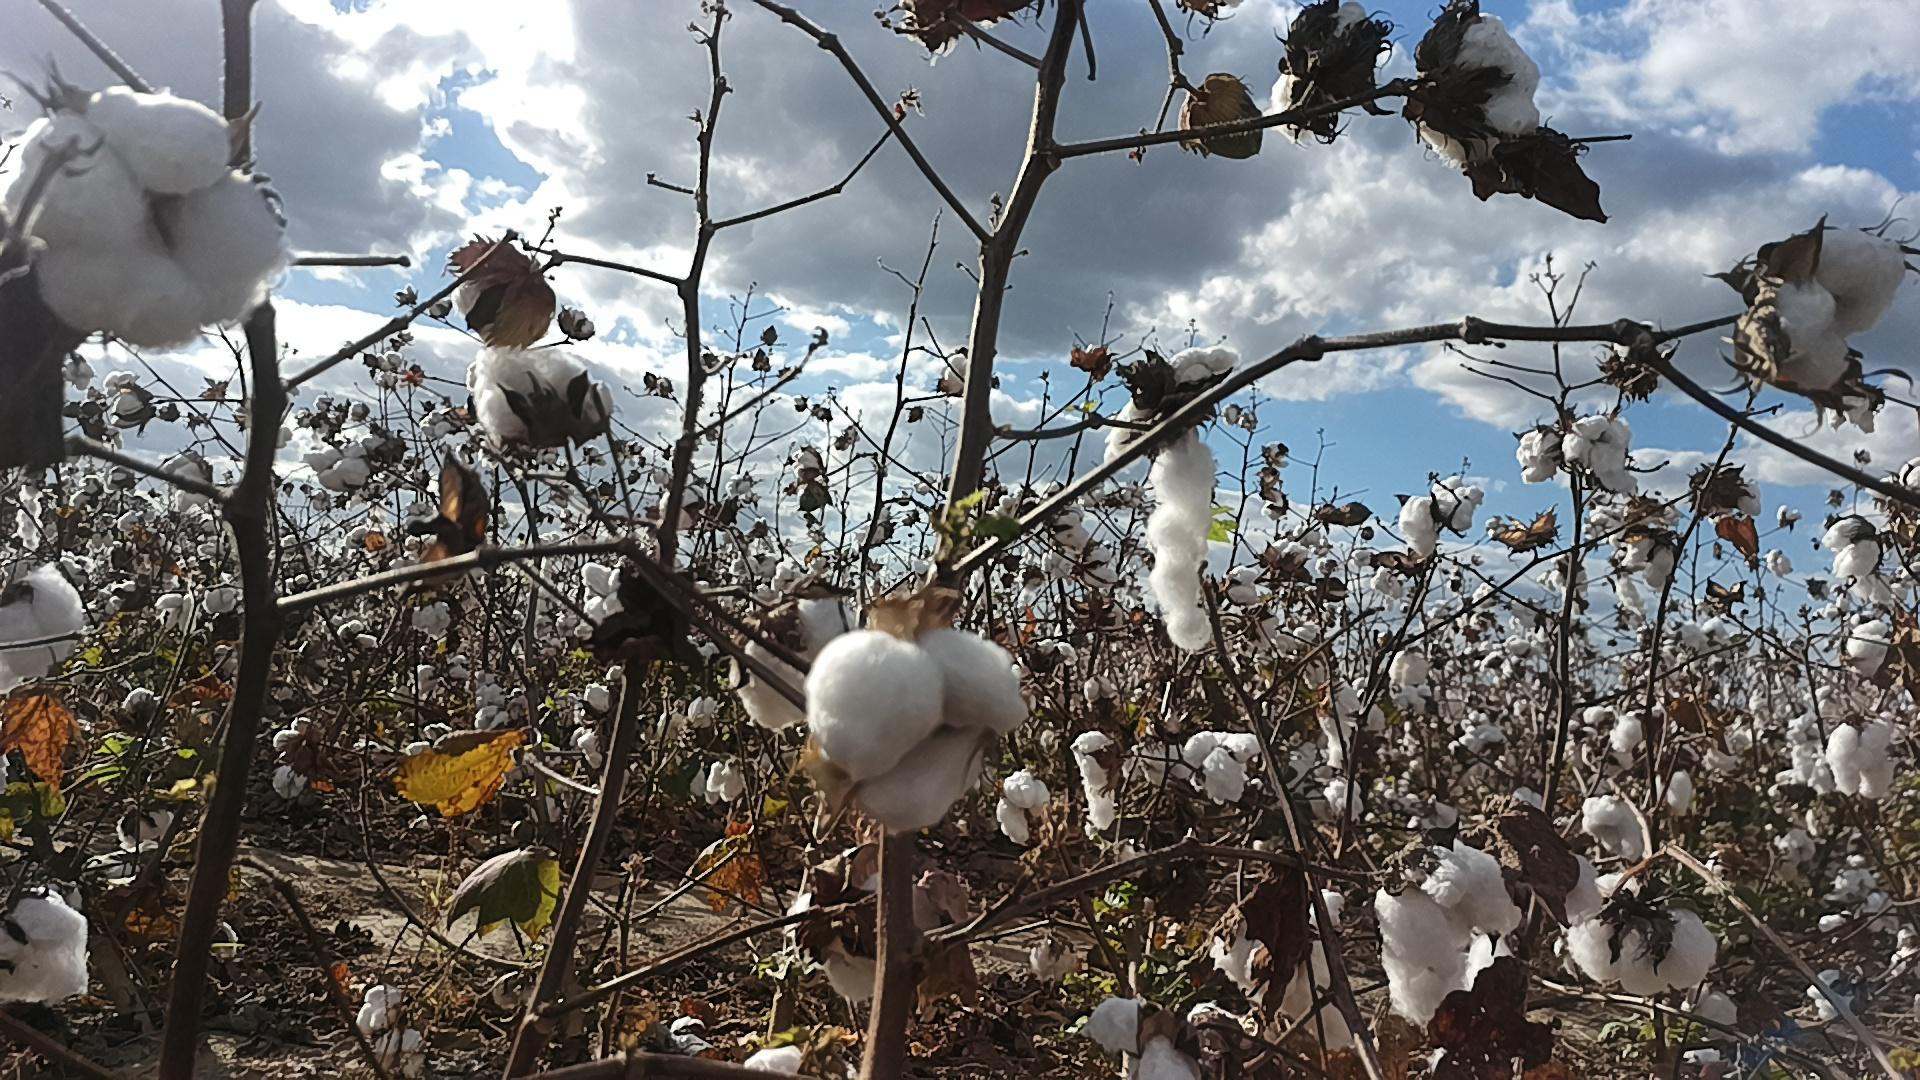cotton_ready: (0, 90, 286, 345), (808, 633, 1022, 827), (1113, 345, 1240, 650), (796, 856, 959, 1002), (1764, 227, 1909, 390), (1419, 12, 1542, 170), (1569, 873, 1717, 998), (1375, 840, 1514, 964), (742, 595, 857, 727), (1490, 789, 1601, 923), (1274, 0, 1377, 136), (480, 342, 591, 448), (1389, 919, 1494, 1026), (1212, 920, 1331, 1013), (0, 887, 87, 1006), (0, 567, 82, 692), (1084, 997, 1200, 1080), (454, 260, 550, 344), (1398, 475, 1487, 560), (1185, 729, 1262, 804), (1185, 87, 1262, 156), (1561, 419, 1634, 491), (1829, 720, 1892, 796), (1072, 733, 1117, 824), (740, 1047, 858, 1080), (994, 770, 1050, 840), (580, 563, 629, 633), (1515, 429, 1564, 480)
